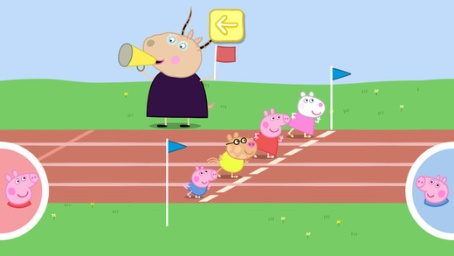Peppa: (252, 108, 291, 159)
